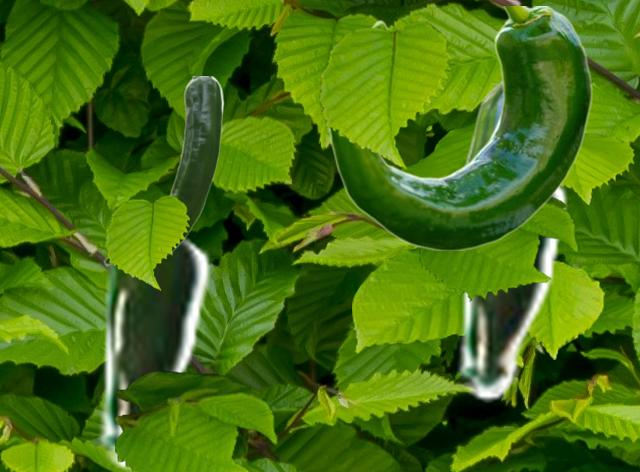green_chili: (328, 6, 592, 249), (93, 230, 211, 470), (452, 183, 567, 401), (103, 76, 223, 267), (461, 80, 501, 166)
